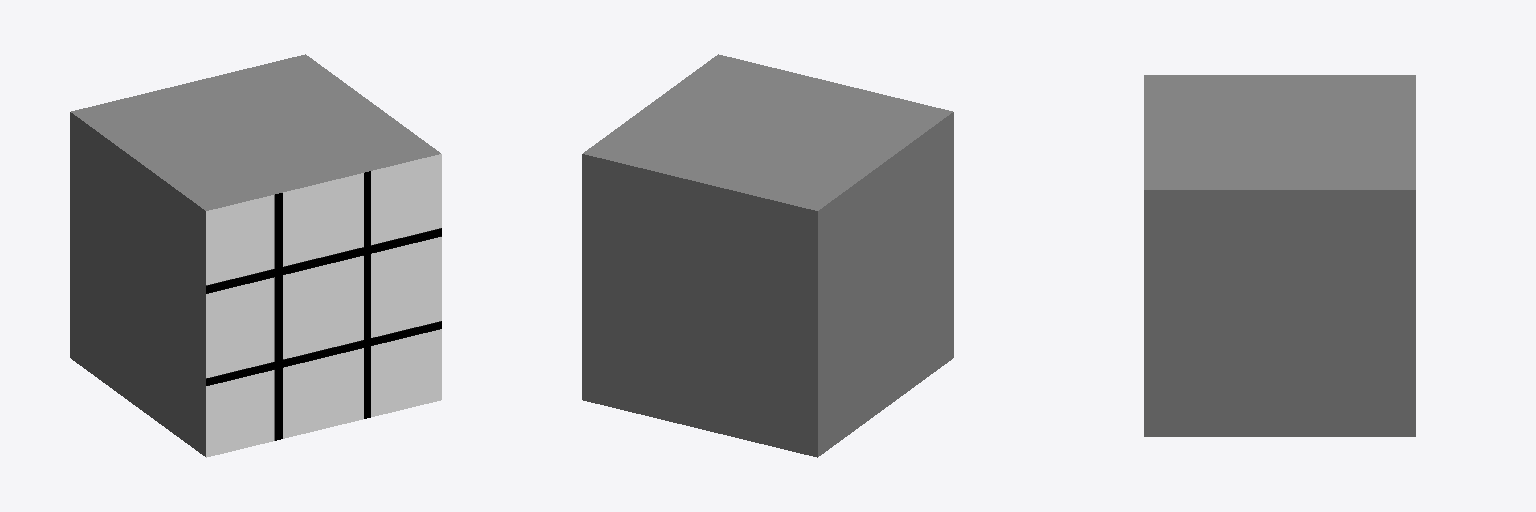
3 renders of one model, left to right at view 1: azimuth 30°, elevation 25°; view 2: azimuth 150°, elevation 25°; view 3: azimuth 270°, elevation 25°, orthographic.
Parts seen in each view (by area): view 1: table; view 2: table; view 3: table.
Part boxes in pixels (x1,y1,x2,y2): table: (70, 54, 441, 457); table: (582, 54, 953, 457); table: (1144, 75, 1415, 436).
Size of the model in its own units: 1 by 1 by 1.
Materials: 1 (1 with a texture image).